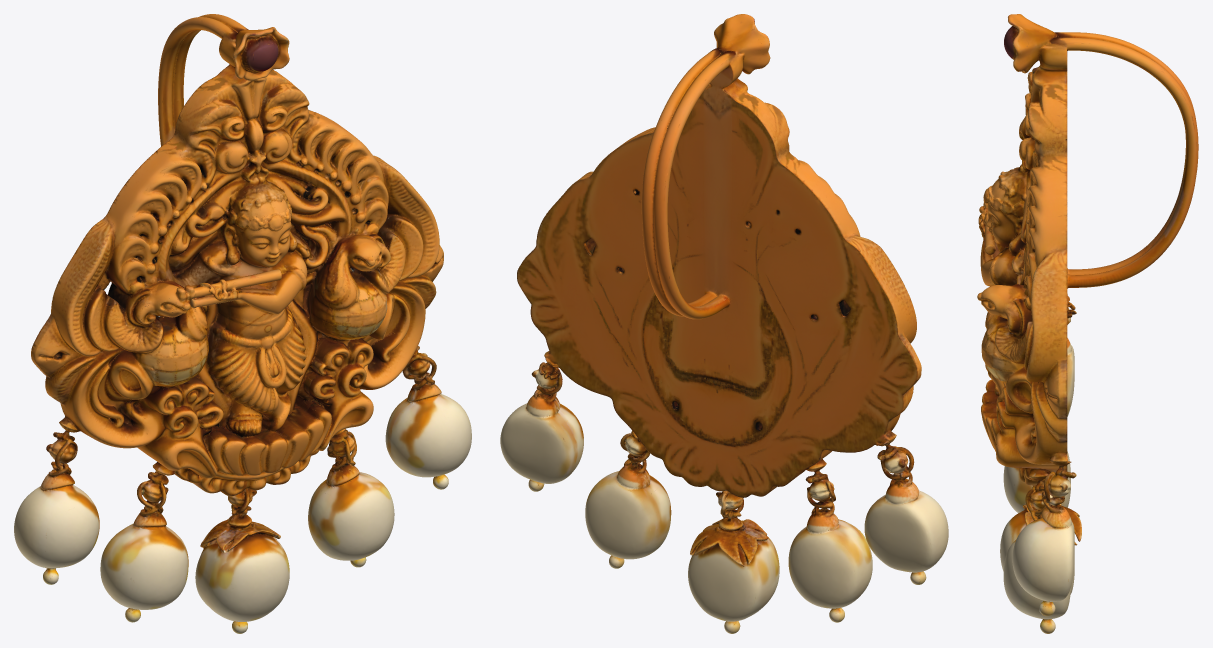
Rendered from krishna.glb.
3 renders of one model, left to right at view 1: azimuth 30°, elevation 25°; view 2: azimuth 150°, elevation 25°; view 3: azimuth 270°, elevation 25°, orthographic. The views are drawn at different scales.
Size of the model in its own units: 1.52 by 2 by 0.6688.
1 material, 1 textured.
